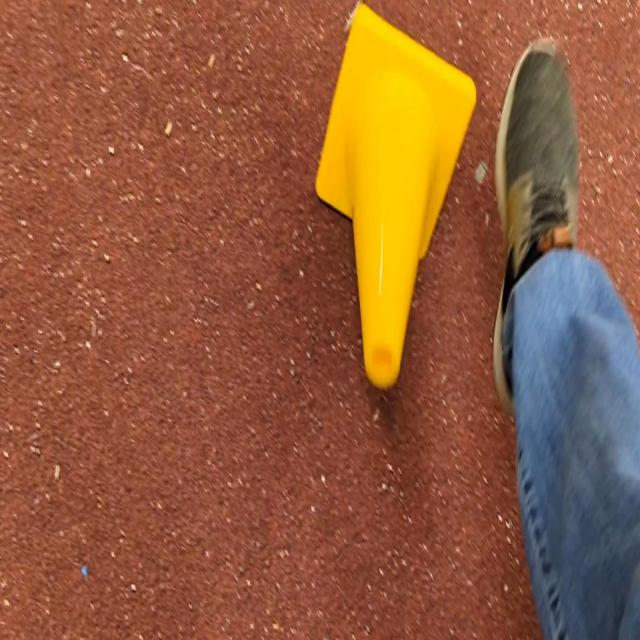frc_cone: (313, 1, 477, 392)
